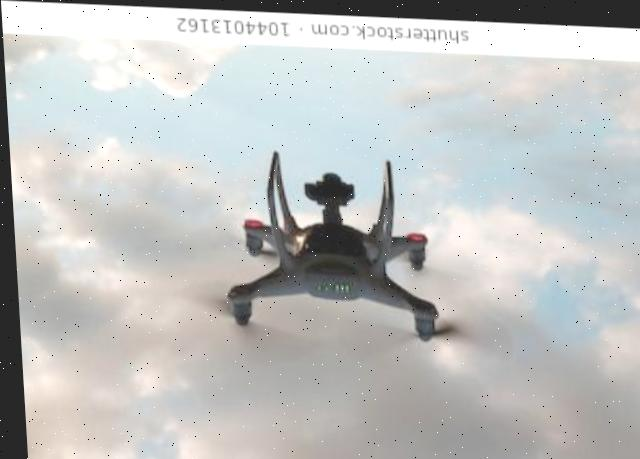drone: (155, 116, 527, 381)
